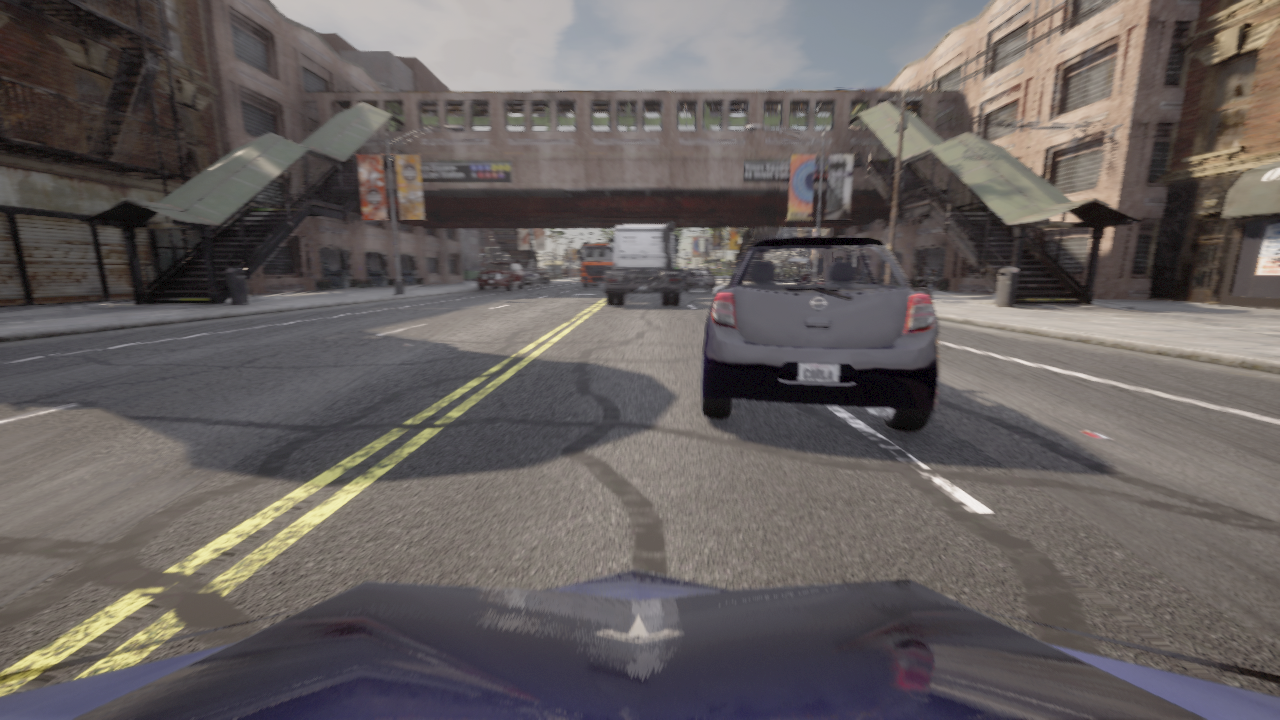cyclist: (0, 569, 1279, 719), (701, 236, 939, 431), (605, 222, 681, 305), (477, 262, 524, 290), (578, 246, 613, 279), (682, 269, 715, 292), (513, 272, 542, 287), (539, 274, 551, 284), (682, 270, 685, 279), (711, 271, 715, 275)
pedestrian: (926, 271, 938, 297)
